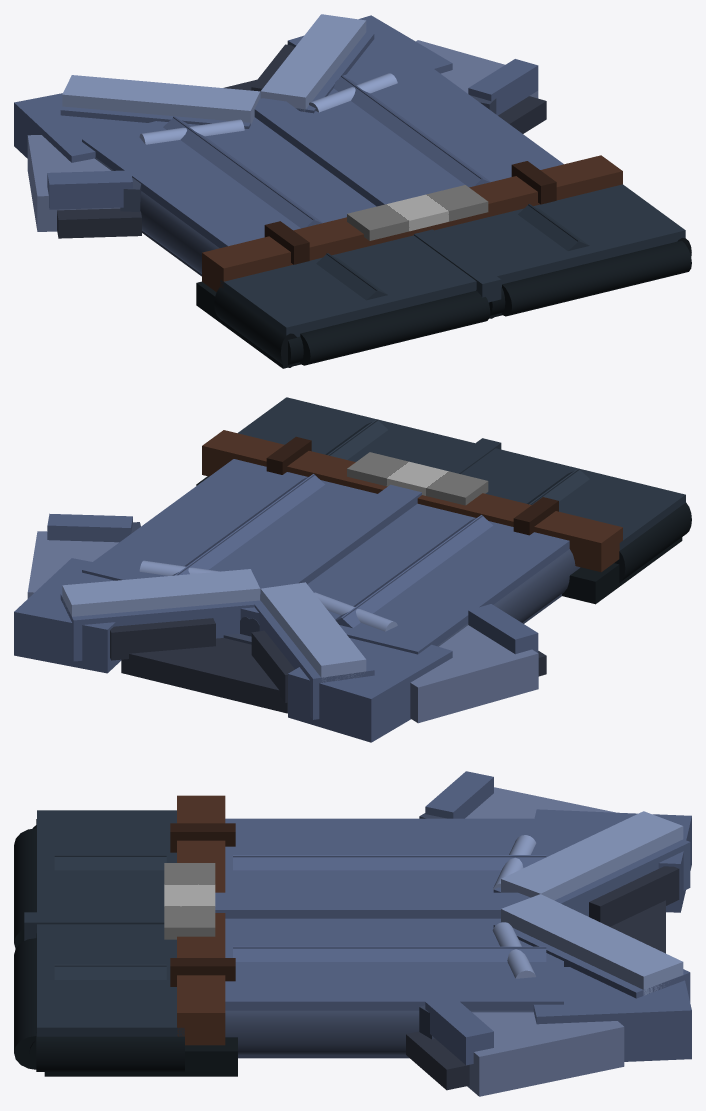
File: CMU3DAU14CivilianWorkwearBlueWorldCloud.glb
The picture shows the model from 3 angles, top to bottom: view 1: azimuth 30°, elevation 25°; view 2: azimuth 150°, elevation 25°; view 3: azimuth 270°, elevation 25°; orthographic projection. The views are drawn at different scales.
Parts seen in each view (by area): view 1: left shirt front continuous cloth panel, right shirt front continuous cloth panel, left folded trouser panel continuous cloth panel, right folded trouser panel continuous cloth panel, continuous attached waist belt, left turned collar face, right turned trouser hem, left turned trouser hem, continuous center button placket, right turned collar face, original small waist clasp, left continuous shoulder cloth (+24 smaller); view 2: left shirt front continuous cloth panel, right shirt front continuous cloth panel, continuous attached waist belt, left continuous shoulder cloth, left folded trouser panel continuous cloth panel, left sloping sleeve cloth, right folded trouser panel continuous cloth panel, recessed inner neck facing, right turned collar face, right continuous shoulder cloth, left turned collar face, continuous center button placket (+22 smaller); view 3: right shirt front continuous cloth panel, left shirt front continuous cloth panel, right folded trouser panel continuous cloth panel, left folded trouser panel continuous cloth panel, right sloping sleeve cloth, right shirt front right turned edge, right continuous shoulder cloth, continuous center button placket, continuous attached waist belt, right turned collar face, left turned collar face, right folded trouser panel right turned edge (+25 smaller).
Part boxes in pixels (<box>): left shirt front continuous cloth panel: <box>82,117,376,247</box>; right shirt front continuous cloth panel: <box>300,57,563,196</box>; left folded trouser panel continuous cloth panel: <box>220,235,476,363</box>; right folded trouser panel continuous cloth panel: <box>434,184,685,314</box>; continuous attached waist belt: <box>202,155,622,291</box>; left turned collar face: <box>62,75,260,124</box>; right turned trouser hem: <box>501,241,691,316</box>; left turned trouser hem: <box>299,291,490,365</box>; continuous center button placket: <box>254,98,416,206</box>; right turned collar face: <box>260,14,366,111</box>; original small waist clasp: <box>347,185,488,240</box>; left continuous shoulder cloth: <box>14,93,146,162</box>; left shirt front continuous cloth panel: <box>250,503,569,654</box>; right shirt front continuous cloth panel: <box>82,459,377,619</box>; continuous attached waist belt: <box>202,430,622,572</box>; left continuous shoulder cloth: <box>288,638,452,742</box>; left folded trouser panel continuous cloth panel: <box>460,448,685,550</box>; left sloping sleeve cloth: <box>410,625,538,723</box>; right folded trouser panel continuous cloth panel: <box>237,397,474,468</box>; recessed inner neck facing: <box>121,638,287,713</box>; right turned collar face: <box>62,569,260,616</box>; right continuous shoulder cloth: <box>14,558,121,673</box>; left turned collar face: <box>260,582,366,682</box>; continuous center button placket: <box>257,484,421,600</box>; right shirt front continuous cloth panel: <box>225,918,563,1010</box>; left shirt front continuous cloth panel: <box>225,818,563,892</box>; right folded trouser panel continuous cloth panel: <box>37,924,184,1036</box>; left folded trouser panel continuous cloth panel: <box>37,810,176,912</box>; right sloping sleeve cloth: <box>467,1012,624,1096</box>; right shirt front right turned edge: <box>225,1010,533,1054</box>; right continuous shoulder cloth: <box>533,967,691,1061</box>; continuous center button placket: <box>215,892,530,918</box>; continuous attached waist belt: <box>177,795,225,1045</box>; right turned collar face: <box>501,894,683,995</box>; left turned collar face: <box>501,811,683,900</box>; right folded trouser panel right turned edge: <box>36,1032,184,1071</box>.
Bounding box in the file's own units: 0.3961 × 0.05 × 0.4159.
Materials: 10 (1 with a texture image).
